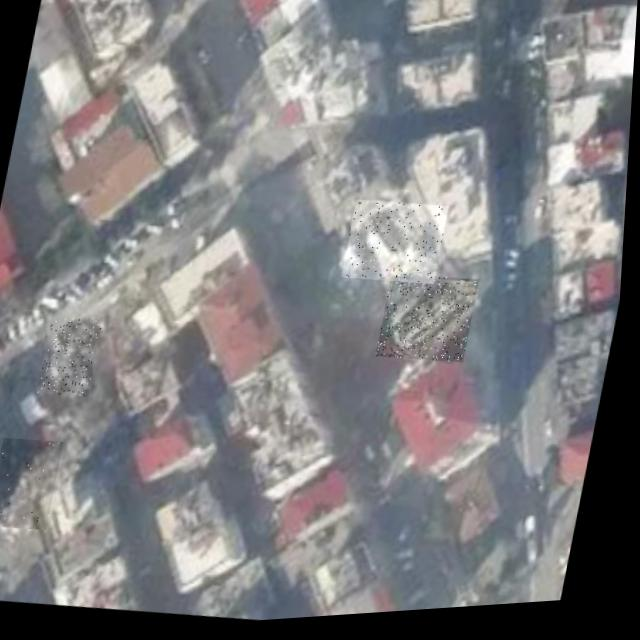Rubble: (380, 274, 484, 374), (344, 200, 453, 295), (0, 435, 71, 535), (42, 315, 107, 400), (0, 569, 6, 602)
